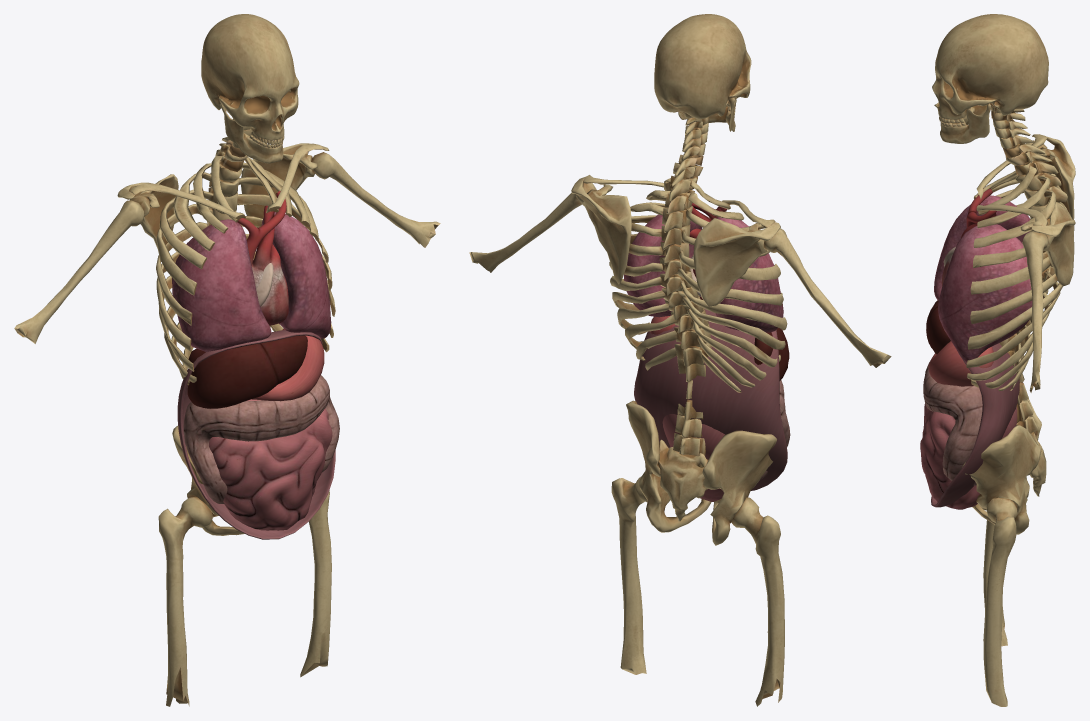
Rendered from astronaut-skeleton.glb.
3 renders of one model, left to right at view 1: azimuth 30°, elevation 25°; view 2: azimuth 150°, elevation 25°; view 3: azimuth 270°, elevation 25°, orthographic. The views are drawn at different scales.
Visible parts, largest first — view 1: Human_Organs_Part09, Human_Organs_Part01, Human_Organs_Part03, Human_Organs_Part05, Human_Organs_Part04, Human_Organs_Part08, Human_Organs_Part06, Human_Organs_Part02; view 2: Human_Organs_Part09, Human_Organs_Part08, Human_Organs_Part01, Human_Organs_Part03; view 3: Human_Organs_Part09, Human_Organs_Part01, Human_Organs_Part08, Human_Organs_Part05, Human_Organs_Part03, Human_Organs_Part02, Human_Organs_Part04, Human_Organs_Part06.
Boxes of the visible parts, x1=… form: Human_Organs_Part09: x1=14, y1=14, x2=440, y2=706; Human_Organs_Part01: x1=172, y1=212, x2=331, y2=351; Human_Organs_Part03: x1=209, y1=399, x2=332, y2=530; Human_Organs_Part05: x1=183, y1=375, x2=339, y2=503; Human_Organs_Part04: x1=187, y1=335, x2=307, y2=408; Human_Organs_Part08: x1=177, y1=330, x2=335, y2=539; Human_Organs_Part06: x1=237, y1=191, x2=288, y2=325; Human_Organs_Part02: x1=252, y1=328, x2=324, y2=401; Human_Organs_Part09: x1=469, y1=14, x2=891, y2=706; Human_Organs_Part08: x1=634, y1=309, x2=787, y2=490; Human_Organs_Part01: x1=624, y1=214, x2=783, y2=332; Human_Organs_Part03: x1=662, y1=414, x2=724, y2=501; Human_Organs_Part09: x1=932, y1=14, x2=1075, y2=706; Human_Organs_Part01: x1=934, y1=195, x2=1032, y2=362; Human_Organs_Part08: x1=931, y1=343, x2=1019, y2=507; Human_Organs_Part05: x1=923, y1=362, x2=982, y2=485; Human_Organs_Part03: x1=920, y1=403, x2=1017, y2=509; Human_Organs_Part02: x1=928, y1=341, x2=993, y2=386; Human_Organs_Part04: x1=926, y1=300, x2=950, y2=354; Human_Organs_Part06: x1=941, y1=188, x2=996, y2=286.
Size of the model in its own units: 0.3309 by 0.5 by 0.1072.
Materials: 2 (2 with a texture image).
